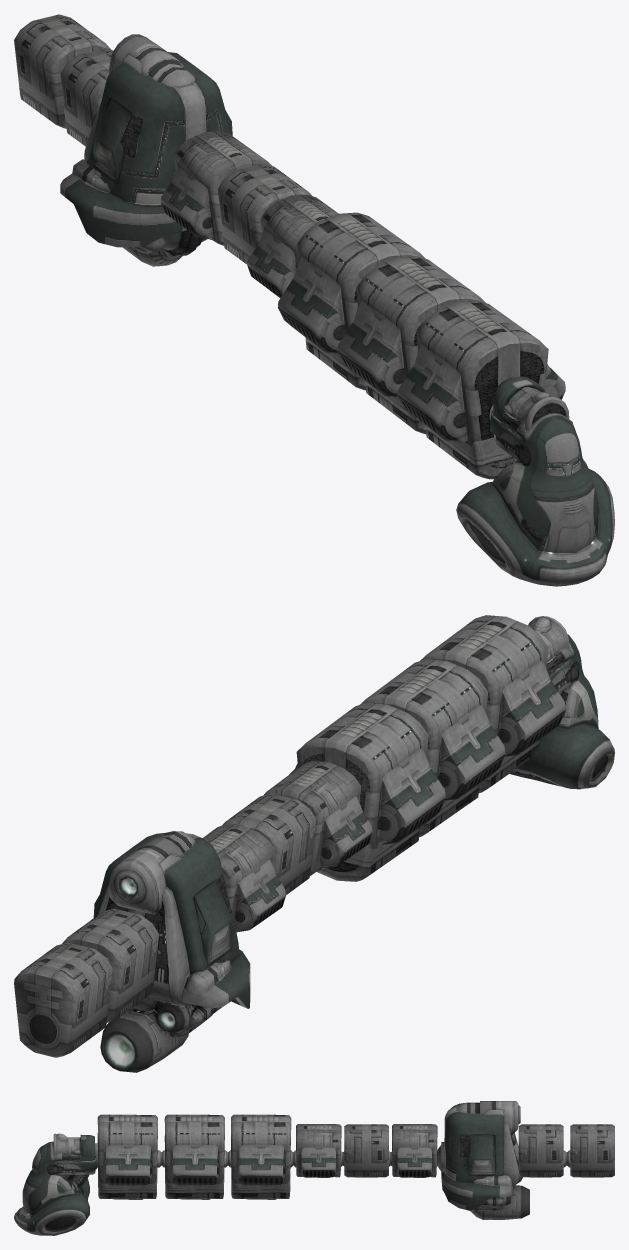
Rendered from 654_lite.glb.
The picture shows the model from 3 angles, top to bottom: view 1: azimuth 30°, elevation 25°; view 2: azimuth 150°, elevation 25°; view 3: azimuth 270°, elevation 25°; orthographic projection. The views are drawn at different scales.
Parts seen in each view (by area): view 1: ship; view 2: ship; view 3: ship.
Part boxes in pixels (x1,y1,x2,y2): ship: (14, 14, 614, 586); ship: (14, 615, 614, 1072); ship: (14, 1101, 614, 1235).
Bounding box in the file's own units: 0.8811 × 1.15 × 5.03.
Materials: 1 (1 with a texture image).
